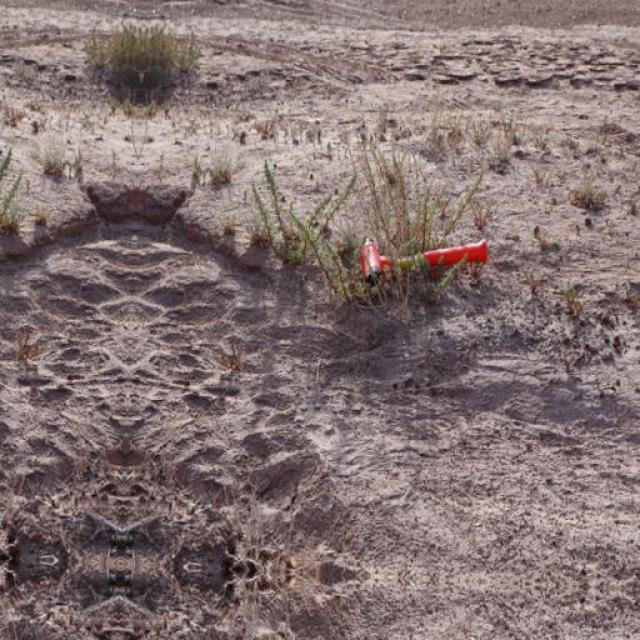mallet: (360, 235, 491, 286)
